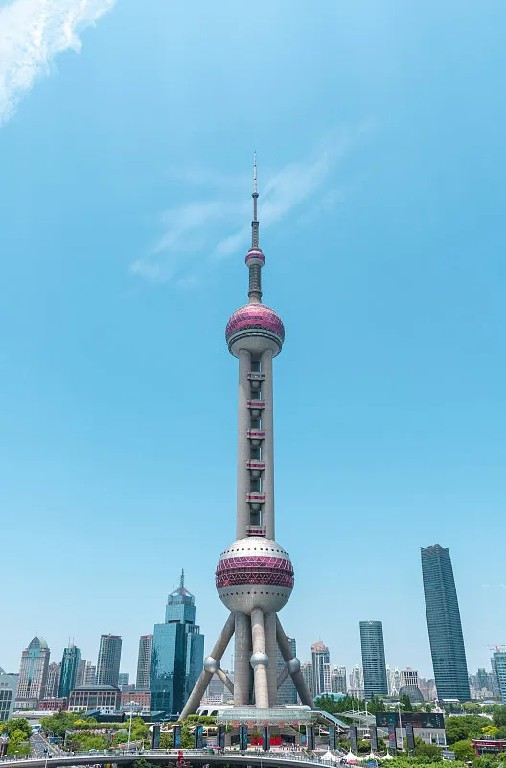Oriental: (179, 151, 316, 722)
